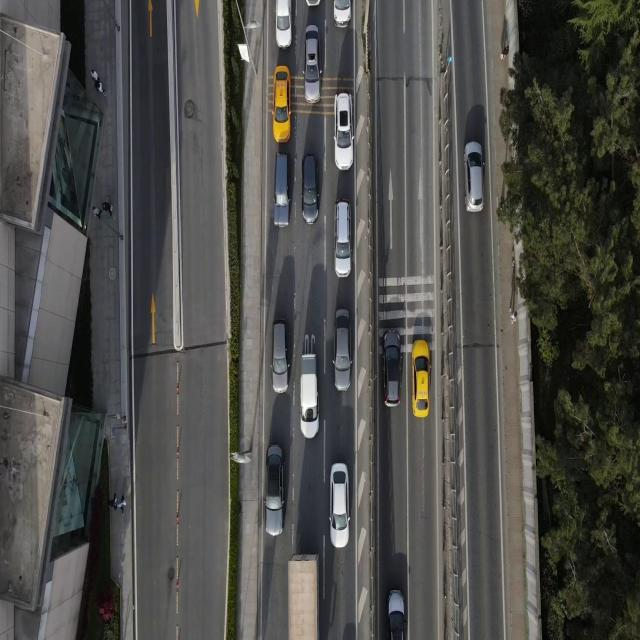p3rson: (106, 493, 117, 514), (90, 67, 102, 84), (114, 497, 126, 513), (102, 202, 114, 216), (97, 83, 108, 98), (501, 44, 509, 62), (509, 307, 517, 325), (93, 206, 102, 220)
